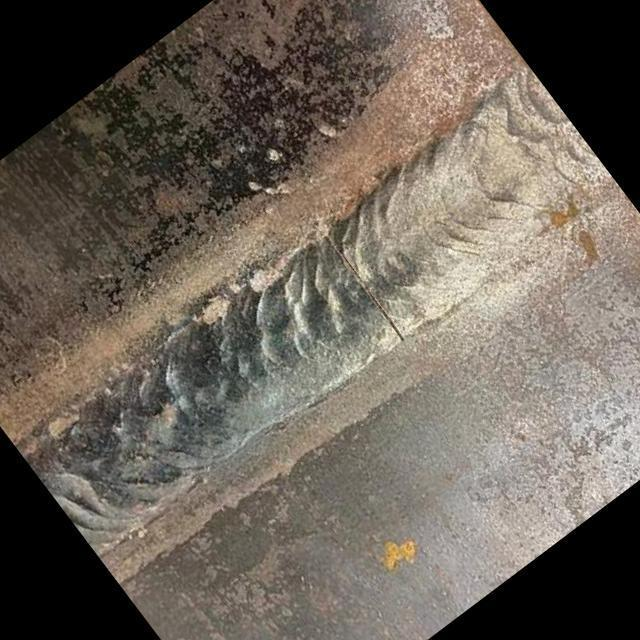defect: (325, 236, 411, 353)
